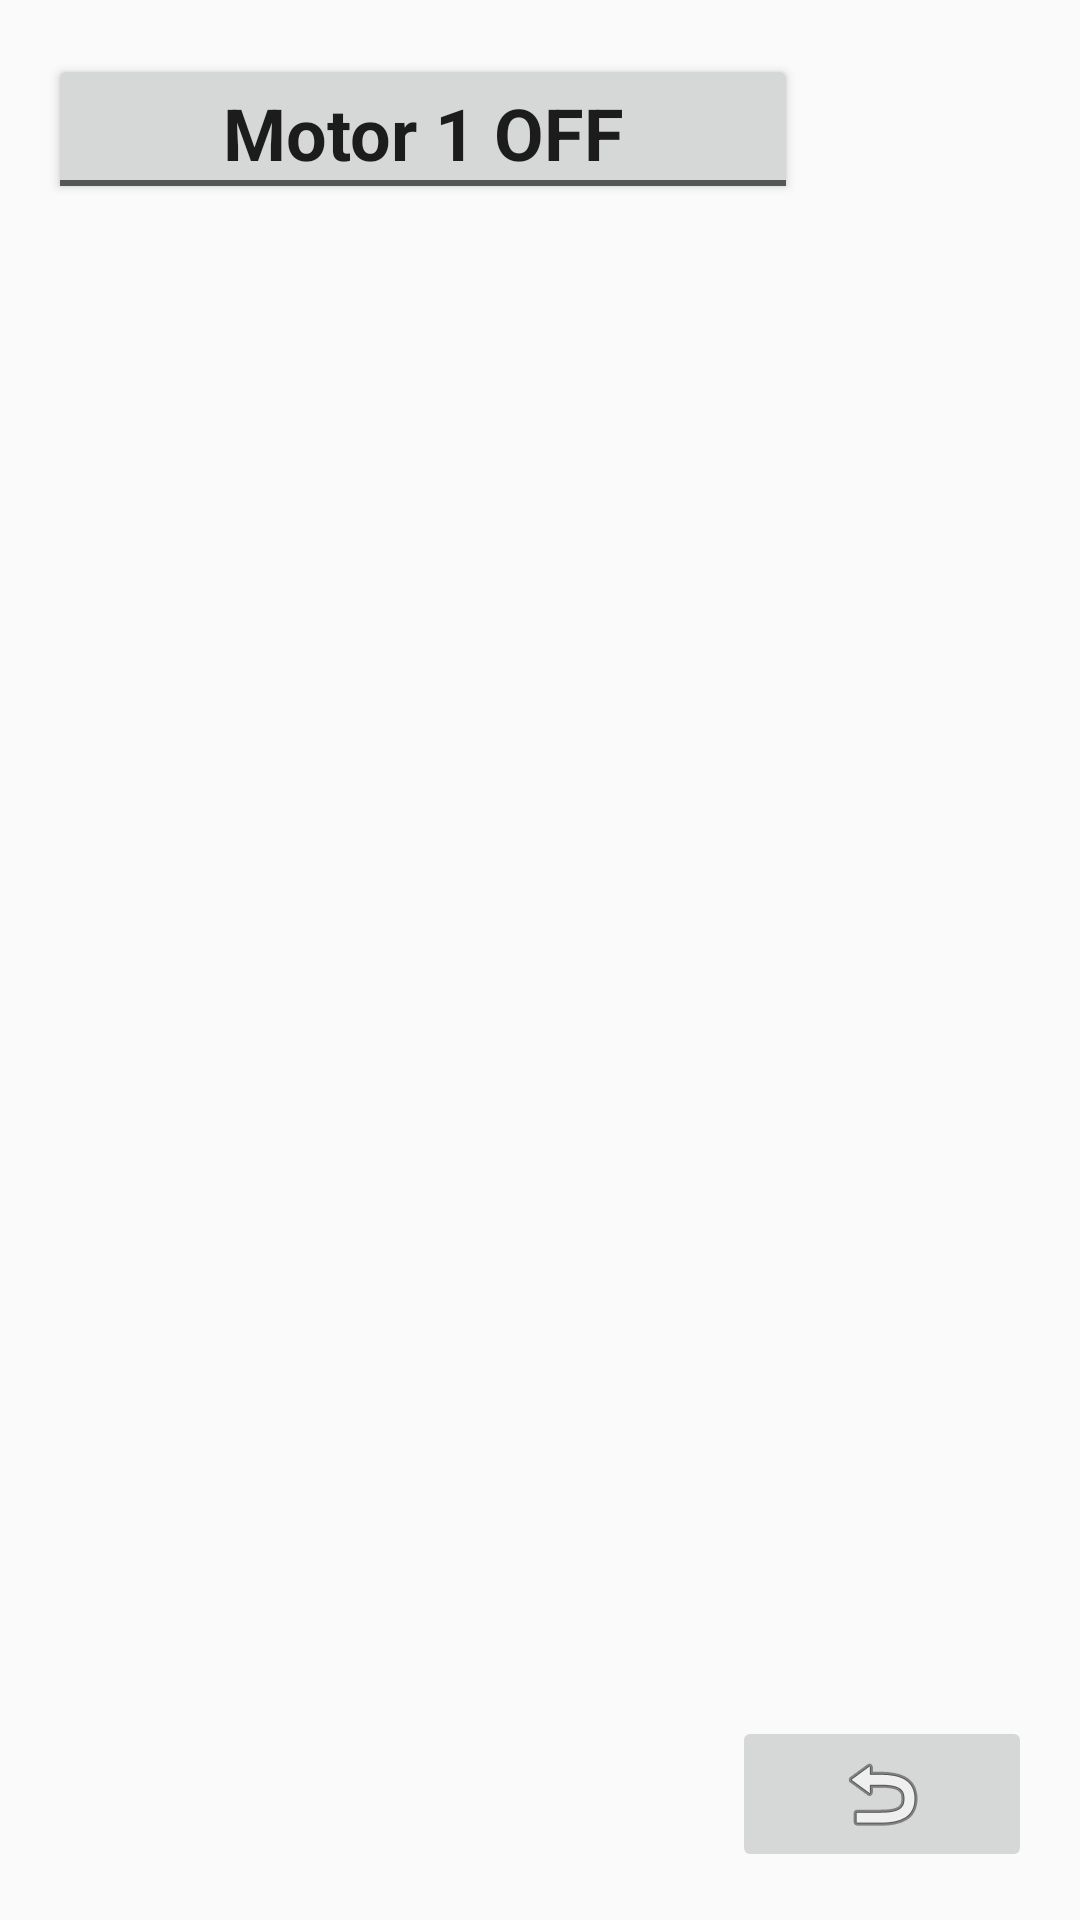

Locate icon controls on the screen. Image size 1080*1920, boxes as [x1=x1, y1=y1, x2=x2, y2=y2].
Voltar: [x1=744, y1=1734, x2=1020, y2=1854]
